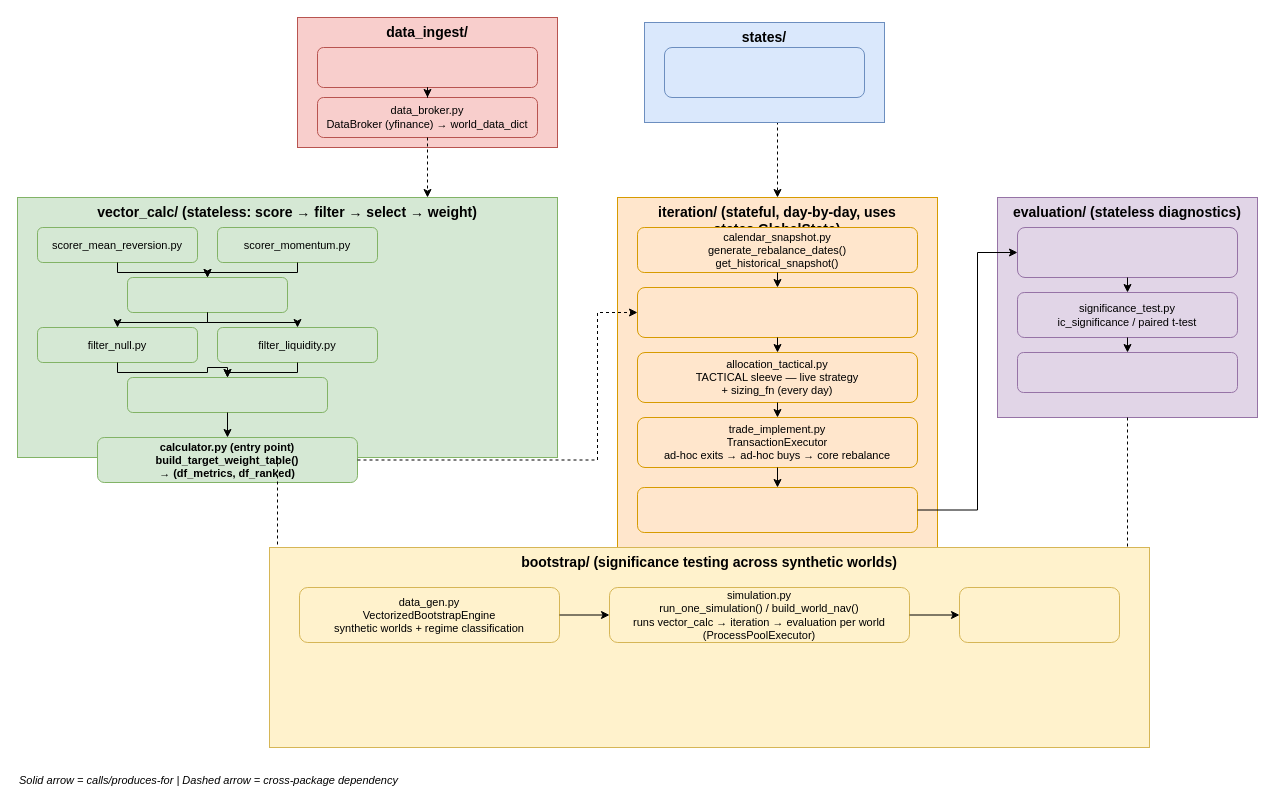
This 1275x805 diagram has some shape labels left out. Each missing label, with the centre of its shape:
"allocation_regular.py CORE sleeve — real weight sizing (rebalance days only)" goes at (x=777, y=312).
"daily_iterator.py (MAIN ENTRY POINT) run_daily_iteration()" goes at (x=777, y=509).
"global_state.py GlobalState / Future_Transaction Transient_Signals" goes at (x=764, y=72).
"metric_calc.py df_ranked-level + NAV-level metrics (CAGR, Sharpe, drawdown, ...)" goes at (x=1127, y=252).
"plot.py visualizes metrics" goes at (x=1127, y=372).
"scorer_composite.py blends scores" goes at (x=207, y=294).
"selector_top_percent.py rank + naive suggested weight" goes at (x=227, y=394).
"significance.py paired significance testing scorer vs benchmark, across worlds" goes at (x=1039, y=614).
"ticker_loader.py universe / ticker lists" goes at (x=427, y=67).
